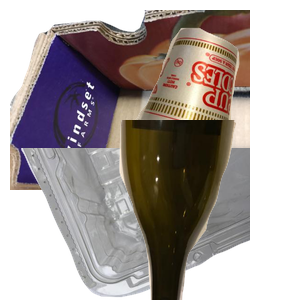cardboard: (10, 10, 250, 190)
glass: (117, 120, 300, 300)
plastic: (19, 148, 259, 300)
trash: (133, 25, 300, 167)
